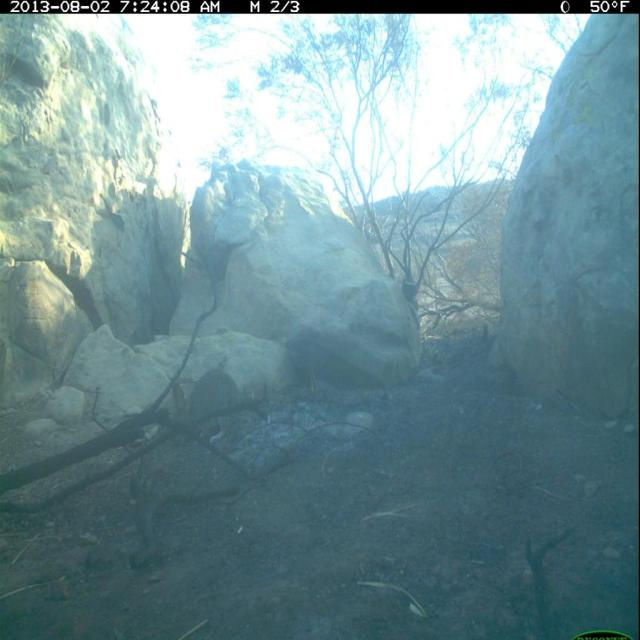bird: (167, 365, 245, 452)
